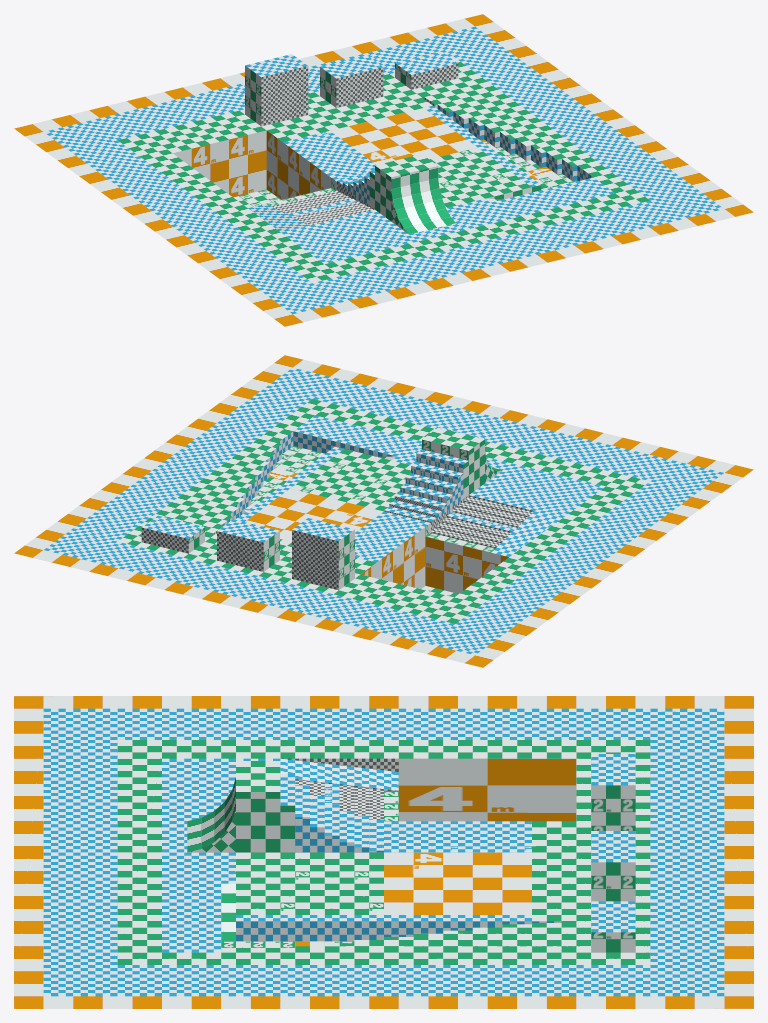
Rendered from map_bake.dae.
The picture shows the model from 3 angles, top to bottom: view 1: azimuth 30°, elevation 25°; view 2: azimuth 150°, elevation 25°; view 3: azimuth 270°, elevation 25°; orthographic projection. The views are drawn at different scales.
Visible parts, largest first — view 1: m4, m5, m6, m2, m3, m1; view 2: m4, m5, m6, m3, m2, m1, m0; view 3: m4, m5, m6, m2, m1, m3, m0.
Part boxes in pixels (box(x1,y1,x2,y2)): m4: box(44, 26, 723, 314); m5: box(118, 58, 649, 282); m6: box(14, 14, 753, 326); m2: box(173, 130, 556, 199); m3: box(261, 63, 458, 225); m1: box(233, 63, 578, 207); m4: box(44, 367, 723, 655); m5: box(118, 399, 649, 623); m6: box(14, 355, 753, 667); m3: box(141, 495, 534, 590); m2: box(245, 468, 508, 593); m1: box(188, 439, 495, 597); m0: box(357, 453, 516, 533); m4: box(43, 708, 724, 996); m5: box(117, 740, 650, 964); m6: box(14, 696, 753, 1008); m2: box(295, 758, 576, 946); m1: box(221, 785, 635, 952); m3: box(282, 758, 398, 819); m0: box(324, 784, 531, 852).
Bounding box in the file's own units: 10000 × 2200 × 10000.
Materials: 8 (8 with a texture image).
